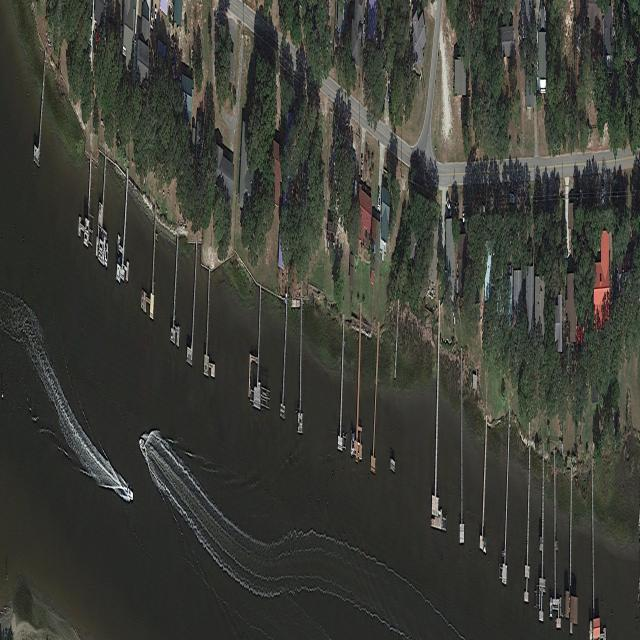ship: (127, 487, 133, 503), (377, 189, 381, 213), (139, 437, 145, 452), (105, 241, 108, 269), (117, 257, 120, 283), (351, 433, 354, 458), (510, 192, 515, 205), (550, 596, 552, 618)
small-vehicle: (446, 195, 452, 218), (172, 38, 178, 53), (462, 203, 465, 225), (360, 157, 363, 179), (154, 7, 157, 28), (388, 84, 390, 103)
